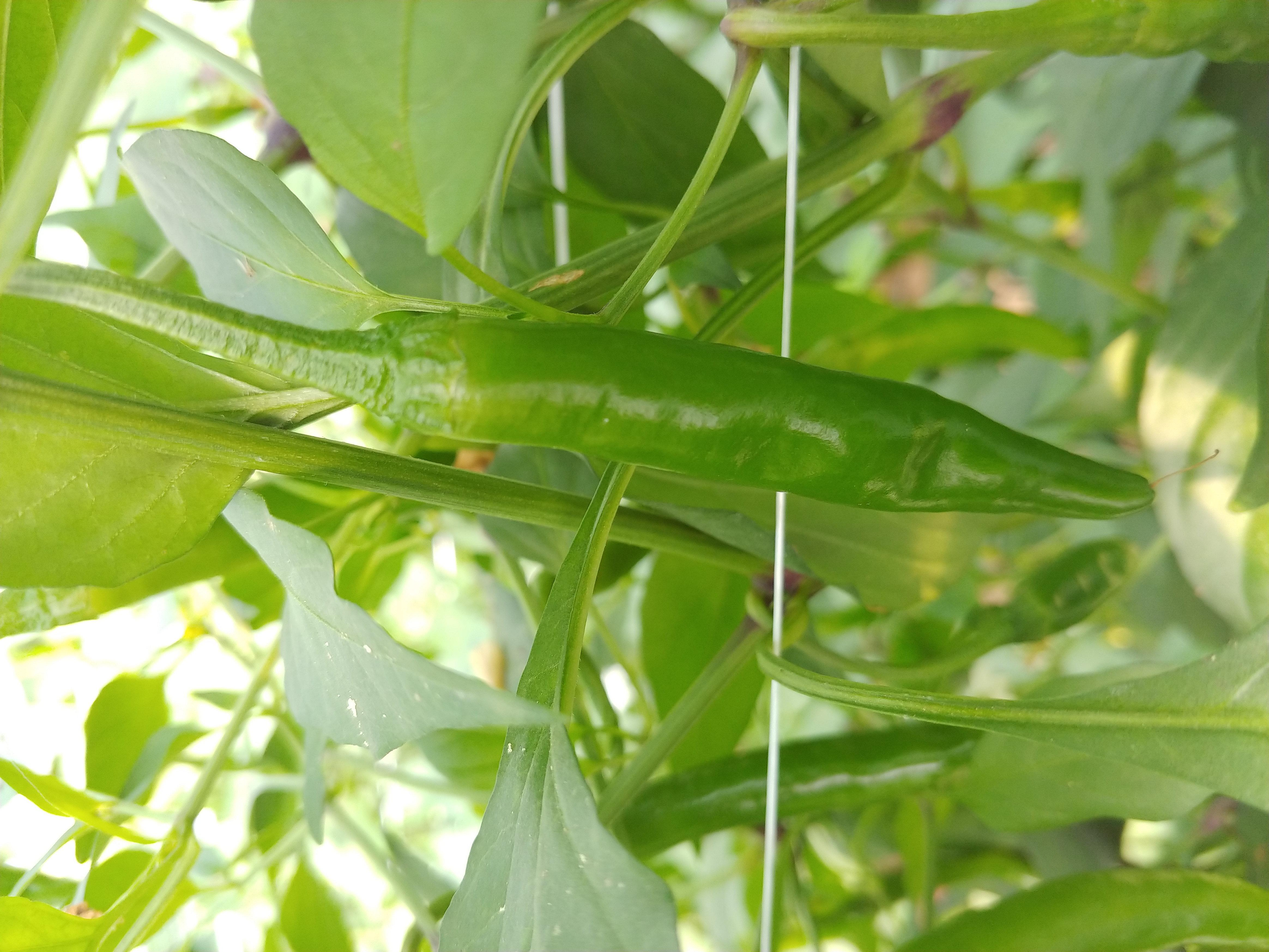Buah Cabai Sehat: (341, 298, 1147, 533)
